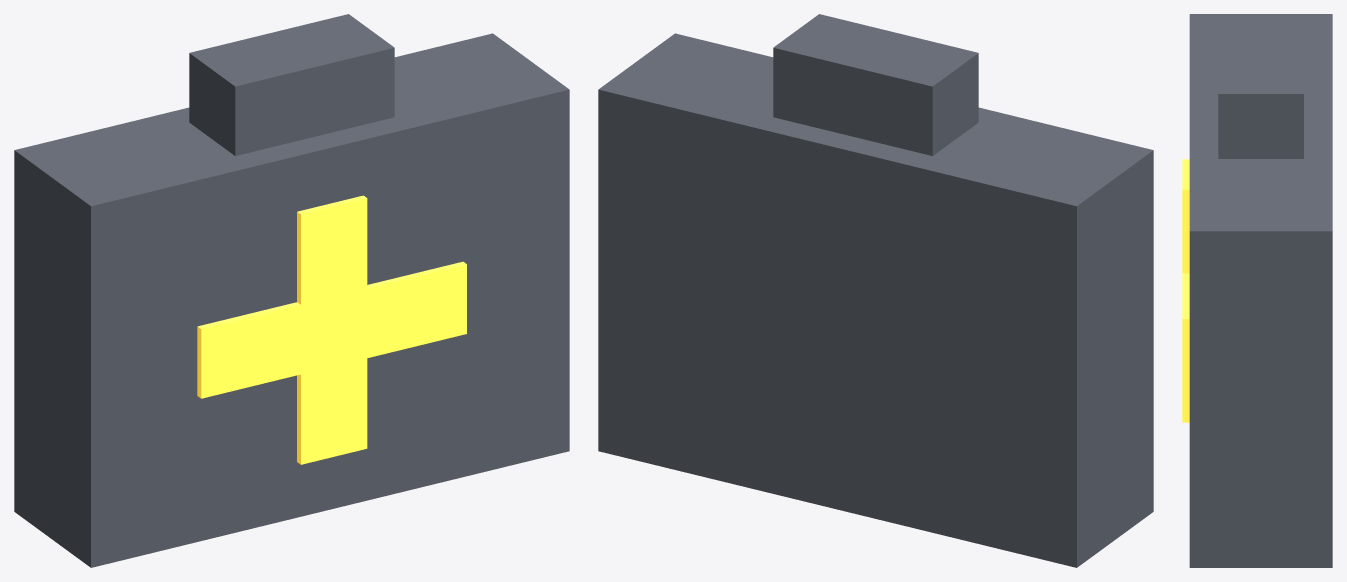
File: armor_suit.glb
3 renders of one model, left to right at view 1: azimuth 30°, elevation 25°; view 2: azimuth 150°, elevation 25°; view 3: azimuth 270°, elevation 25°, orthographic. The views are drawn at different scales.
Parts seen in each view (by area): view 1: ArmorSuit; view 2: ArmorSuit; view 3: ArmorSuit.
Part boxes in pixels (x1,y1,x2,y2): ArmorSuit: (14, 14, 569, 567); ArmorSuit: (598, 14, 1153, 567); ArmorSuit: (1182, 14, 1332, 567).
Bounding box in the file's own units: 0.36 × 0.31 × 0.105.
